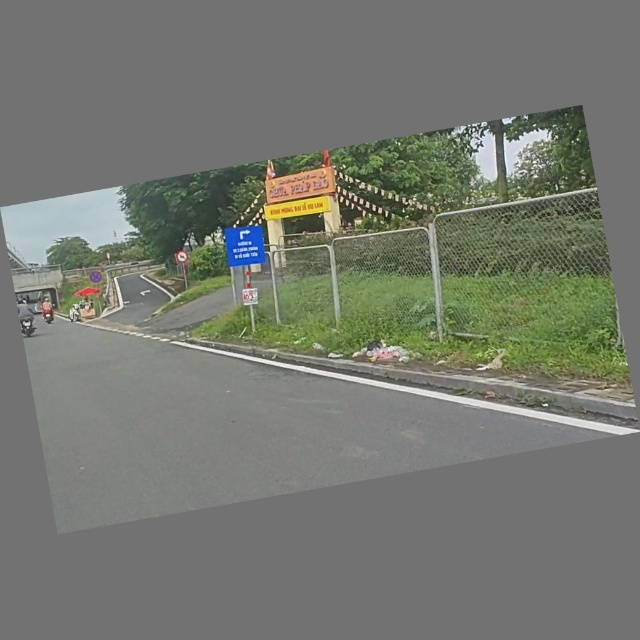P.103a: (175, 250, 190, 266)
P.130: (90, 272, 103, 284)
